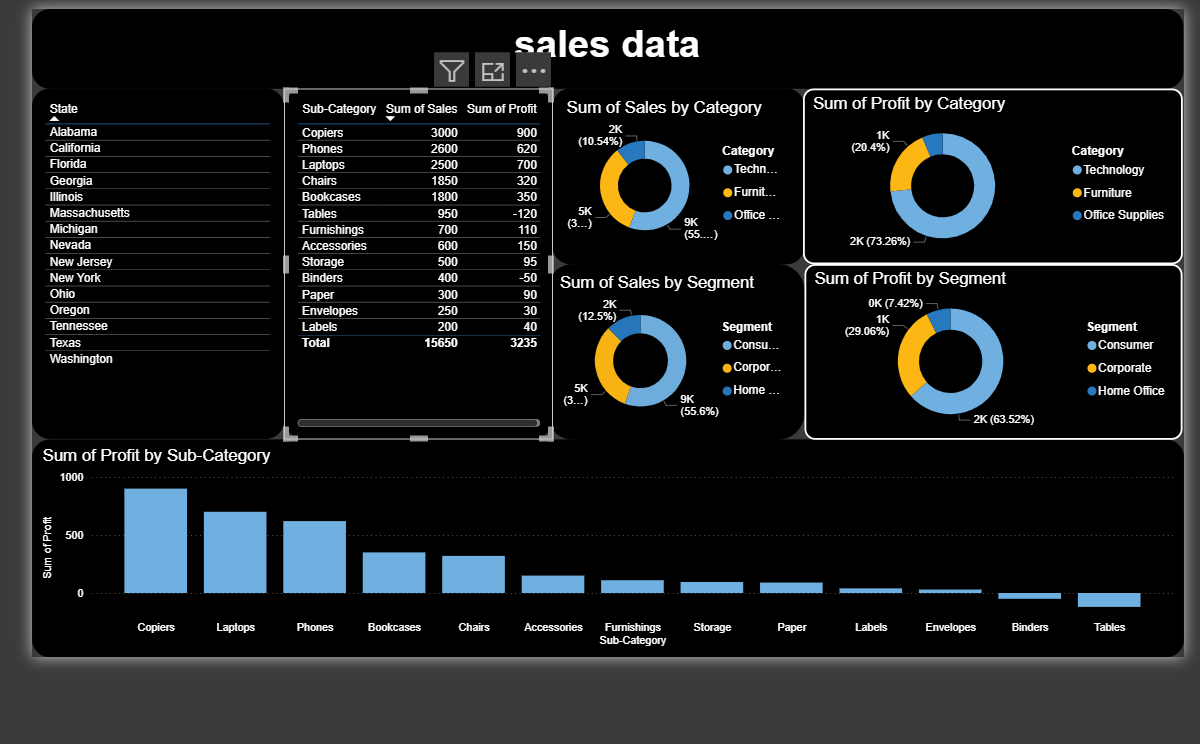

The page's visual inventory and layout, read from the dashboard file:
{"tool":"powerbi","page":{"name":"Page 2","canvas":[1280,720],"ordinal":1},"visuals":[{"type":"textbox","box":[0,0,1279.5,68.1],"z":0},{"type":"tableEx","fields":{"Values":["Orders.State"]},"box":[0,81.1,182.5,639.7],"z":1},{"type":"card","fields":{"Values":["Sum(Orders.Sales)"]},"box":[182.5,81.1,365,160.4],"z":2},{"type":"card","fields":{"Values":["Sum(Orders.Profit)"]},"box":[547.5,81.1,333.7,160.4],"z":3},{"type":"hundredPercentStackedColumnChart","fields":{"Category":["Orders.Category"],"Y":["Sum(Orders.Profit)"],"Series":["Orders.Segment"]},"box":[182.5,241.5,365,479.3],"z":4},{"type":"lineChart","fields":{"Series":["Orders.Segment"],"Y":["Sum(Orders.Sales)"],"Category":["Orders.Category"]},"box":[548,241,334,479],"z":5},{"type":"donutChart","fields":{"Category":["Orders.Category"],"Y":["Sum(Orders.Profit)"]},"box":[881.2,81.1,398.2,208.3],"z":6},{"type":"donutChart","fields":{"Y":["Sum(Orders.Profit)"],"Category":["Orders.Region"]},"box":[881.2,289.4,398.2,200.9],"z":7},{"type":"donutChart","fields":{"Y":["Sum(Orders.Profit)"],"Category":["Orders.Segment"]},"box":[881.2,490.4,398.2,230.4],"z":8}]}

Visuals, with their boxes on the page's 1280x720 design canvas (x1, y1, x2, y2). These are canvas units, not pixel positions in the 1200x744 screenshot, which may show the page scaled, cropped or inside an application window:
textbox: <box>0,0,1280,68</box>
tableEx - Orders.State: <box>0,81,182,721</box>
card - Sum(Orders.Sales): <box>182,81,548,242</box>
card - Sum(Orders.Profit): <box>548,81,881,242</box>
hundredPercentStackedColumnChart - Orders.Category x Sum(Orders.Profit): <box>182,242,548,721</box>
lineChart - Orders.Segment x Sum(Orders.Sales): <box>548,241,882,720</box>
donutChart - Orders.Category x Sum(Orders.Profit): <box>881,81,1279,289</box>
donutChart - Sum(Orders.Profit) x Orders.Region: <box>881,289,1279,490</box>
donutChart - Sum(Orders.Profit) x Orders.Segment: <box>881,490,1279,721</box>
